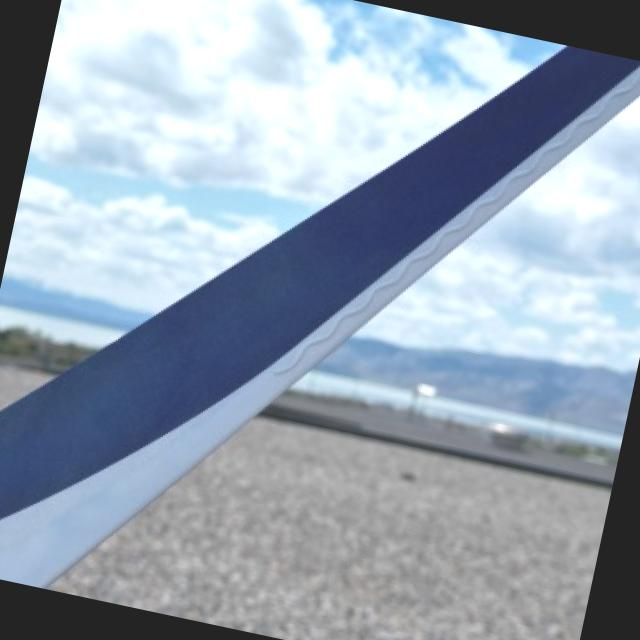healthy: (0, 48, 640, 585)
